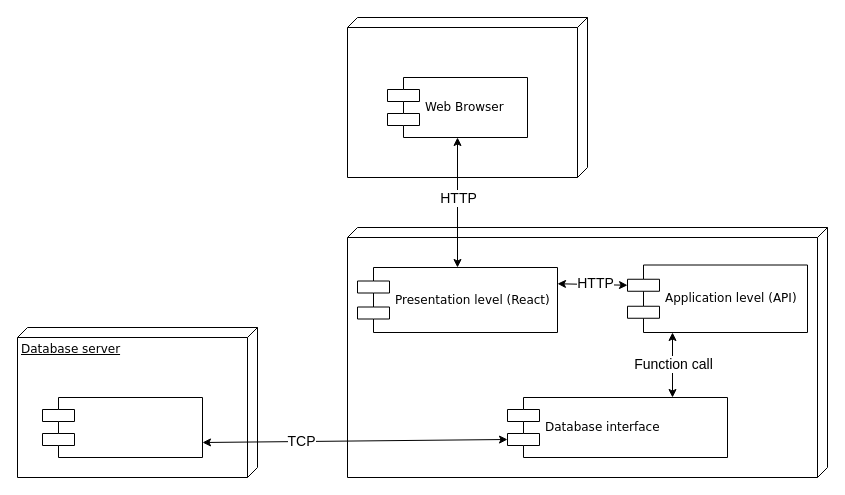
This 845x495 diagram has some shape labels left out. The box of each missing label's shape, as (x1, y1, x2, y2) in pixels:
My SQL Database: (42, 396, 202, 458)
Web server: (346, 226, 828, 478)
Workstation: (346, 16, 588, 178)
